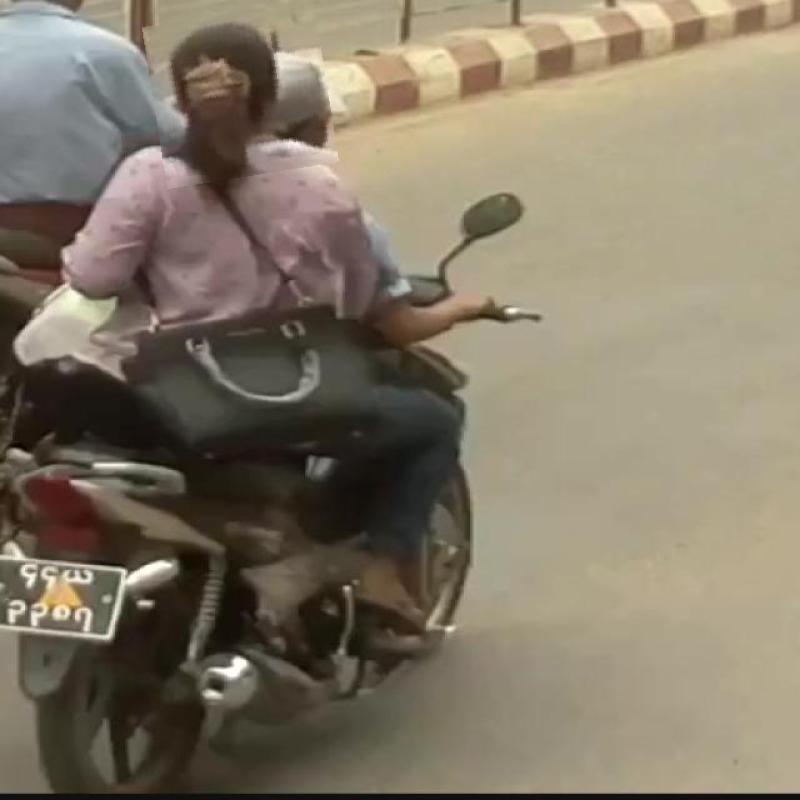nohelmet: (148, 6, 334, 184)
